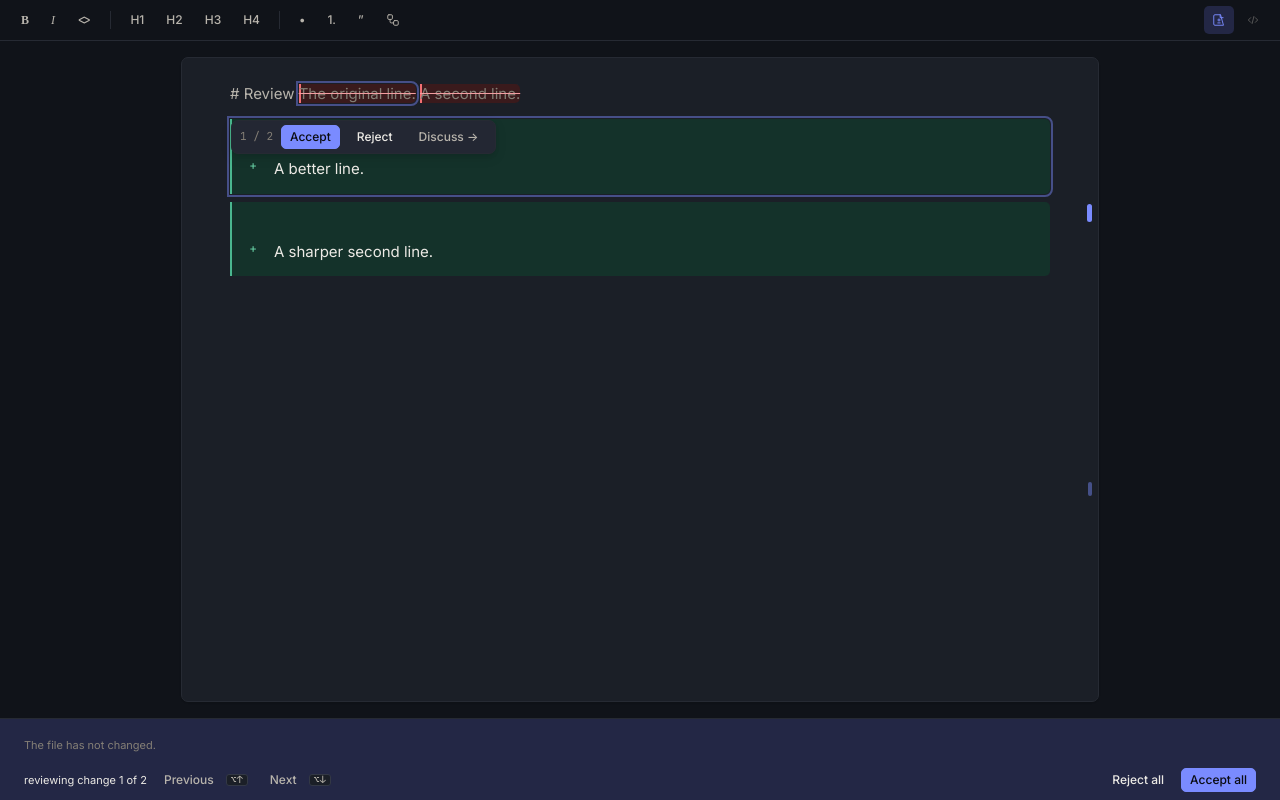
Test: PCR-FR-AXPW: deciding one change › DCR-FR-CXZG, PCR-FR-AXPW: Accept all stops at the first refusal, and the refusal is said in the file's words
Expected: the element named "Proposed changes" is shown, [0, 718, 1279, 799]
Click the button "Accept all": (1219, 780) [1181, 768, 1256, 792]
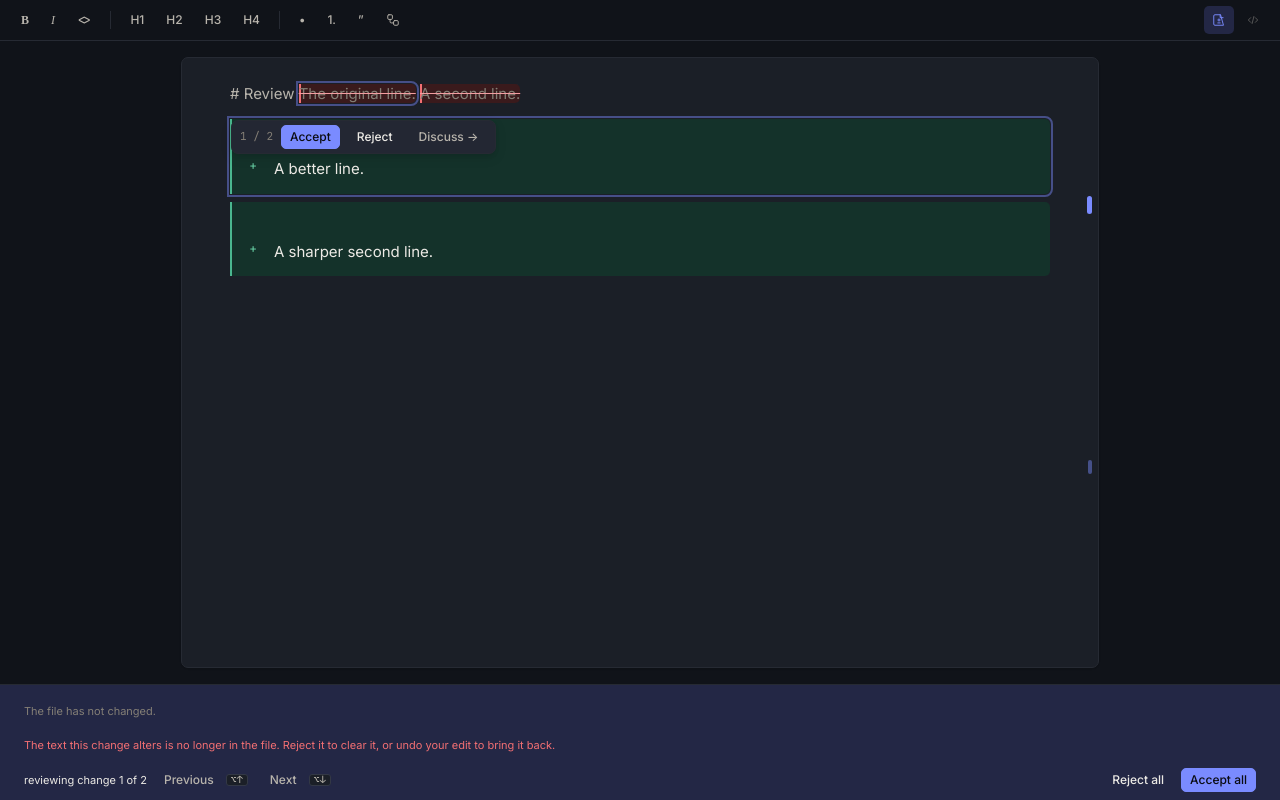
Expected: the 2nd message shows "The text this change alters is no longer in the file.", [24, 738, 555, 752]
